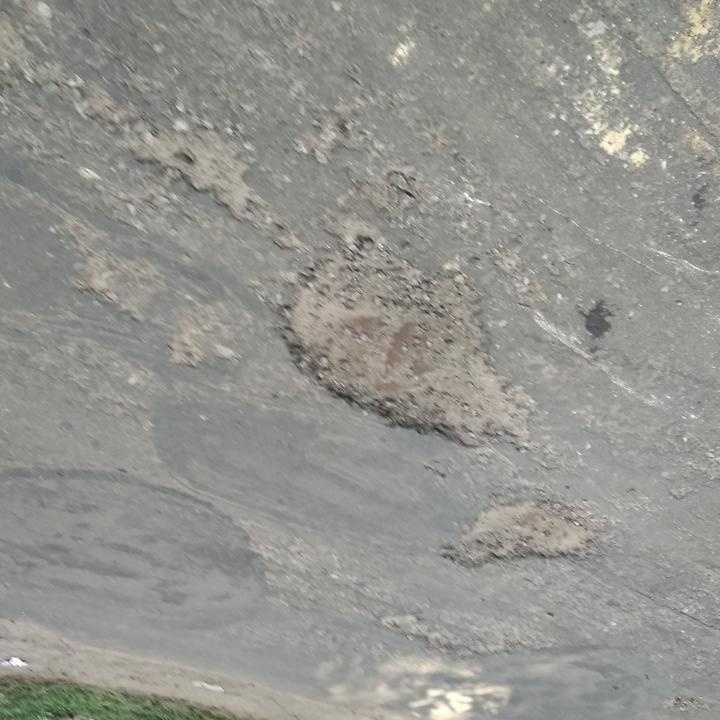pothole: (283, 239, 539, 455), (445, 500, 605, 573)
